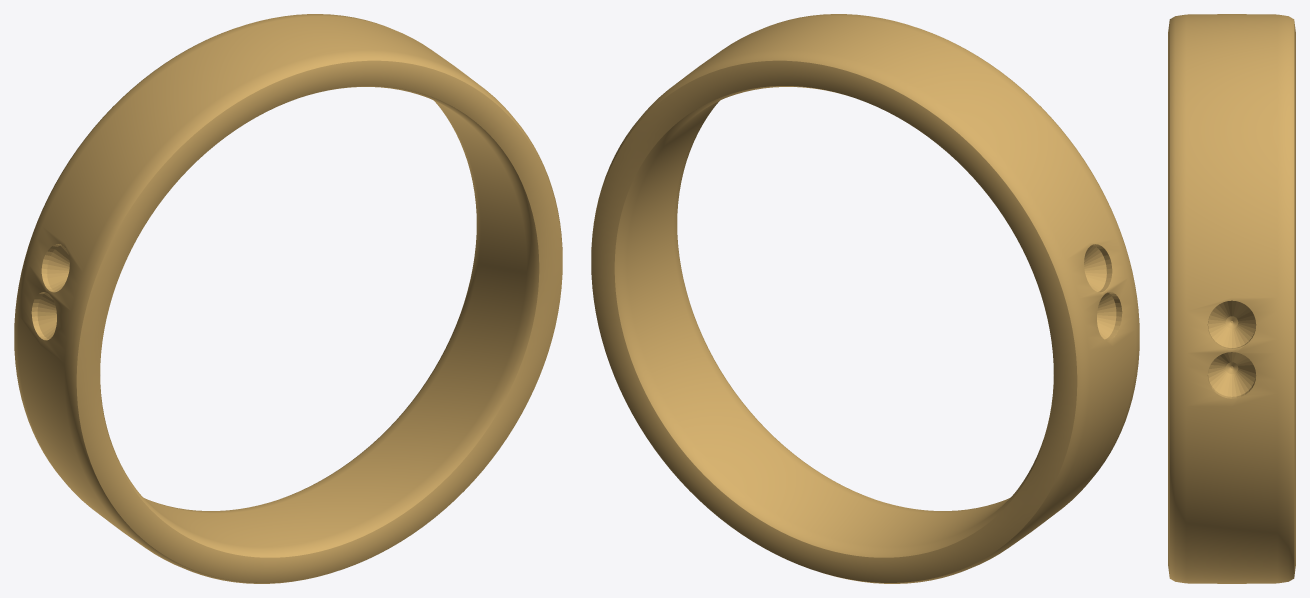
The model's file is wide-flush-accents-multi.glb.
3 renders of one model, left to right at view 1: azimuth 30°, elevation 25°; view 2: azimuth 150°, elevation 25°; view 3: azimuth 270°, elevation 25°, orthographic.
Visible parts, largest first — view 1: Band; view 2: Band; view 3: Band.
Boxes of the visible parts, x1,y1,x2,y2 form: Band: [14, 14, 562, 583]; Band: [591, 14, 1139, 583]; Band: [1168, 14, 1295, 583].
Bounding box in the file's own units: 19.6 × 19.6 × 4.4.
